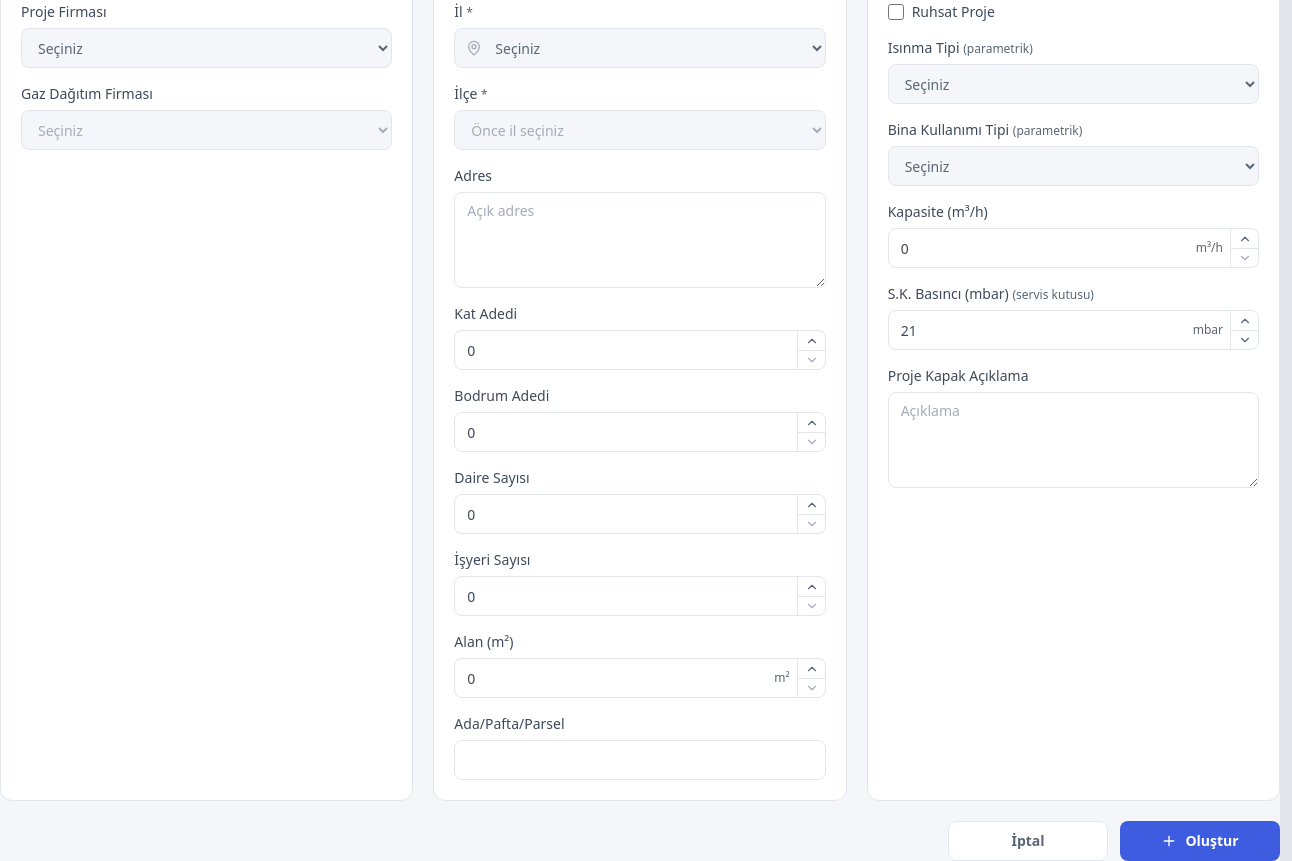
Test: NewProjectPage — gönderim › boş formda kayıt oluşmaz, hatalar görünür ve odak ilk hatalı alana gider
(page scrolled)
Click the button "Oluştur" at {"x": 1200, "y": 841}, box [1120,821,1280,860]
(page scrolled)
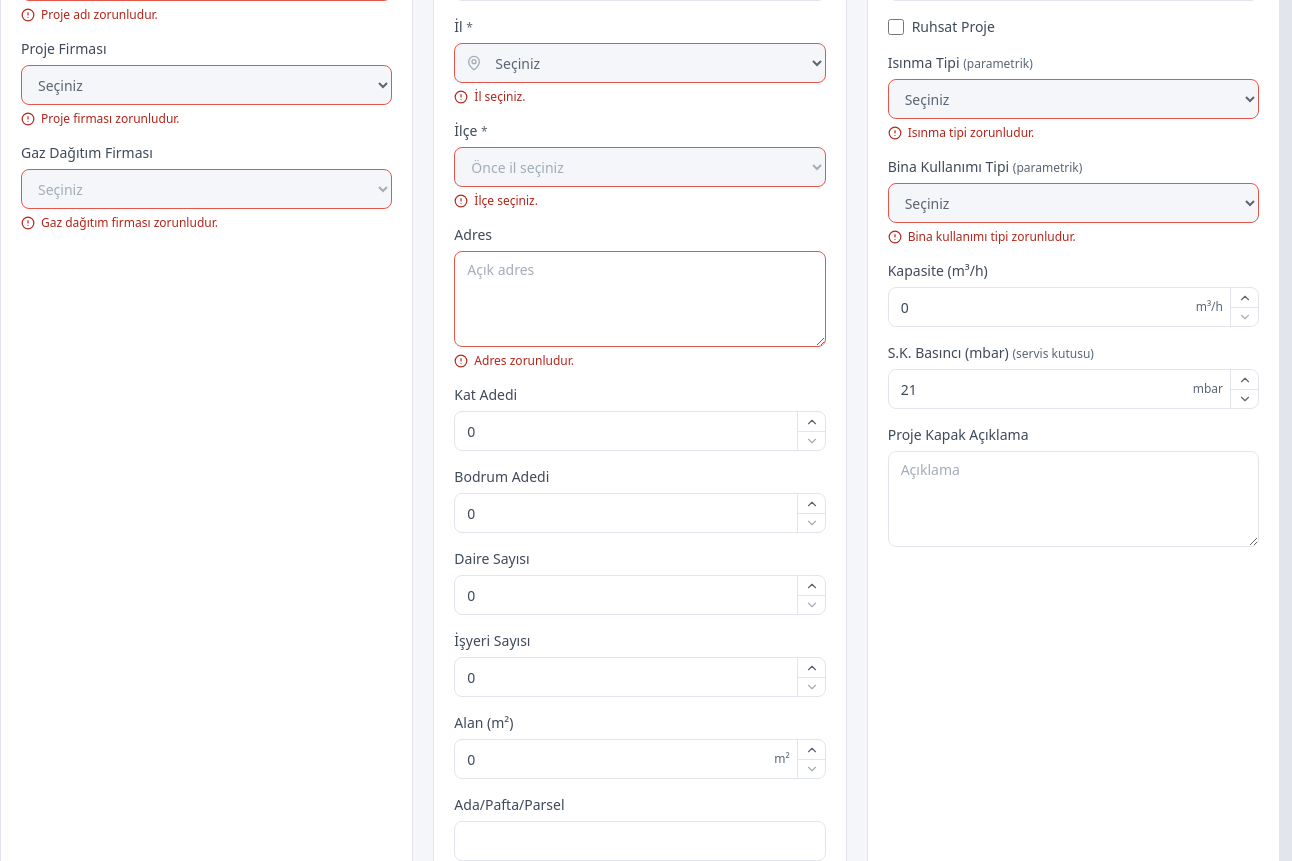
expect the text "Proje adı zorunludur." is shown: met, box [21,6,158,23]
expect the text "Proje firması zorunludur." is shown: met, box [21,110,180,127]
expect the text "Gaz dağıtım firması zorunludur." is shown: met, box [21,214,218,231]
